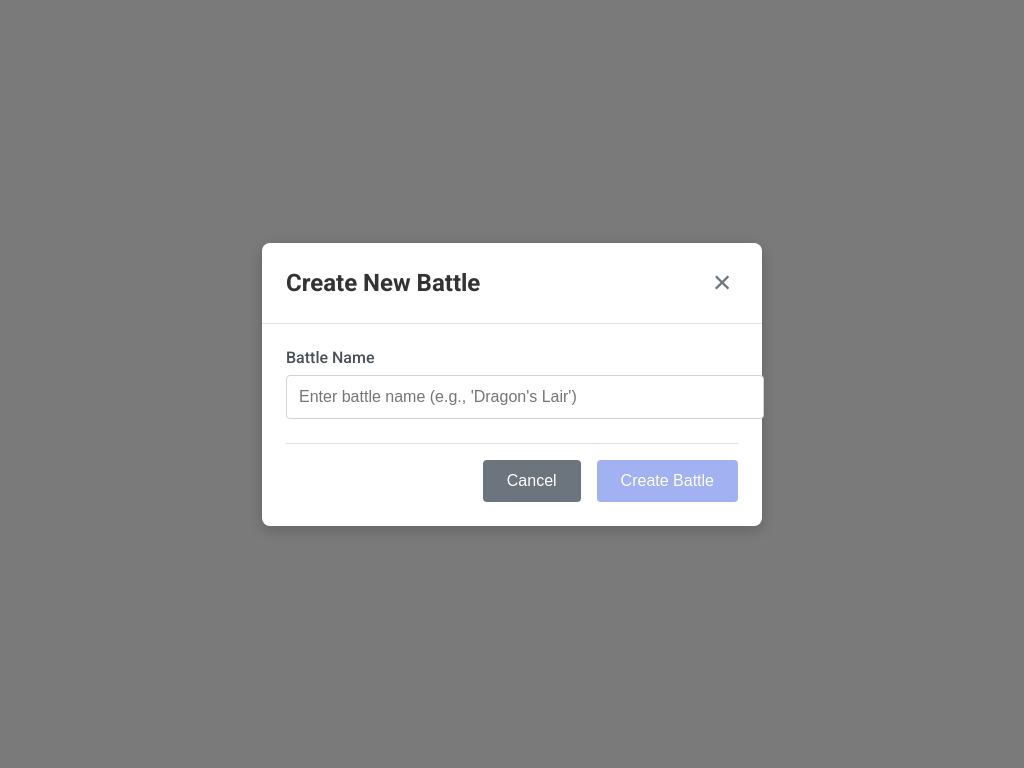
Scenario: CreateBattleDialogComponent › should show validation error when name is empty and form is touched
Focus and blur without entering text
Click the field labelled "Battle Name": (525, 396) [286,374,764,418]
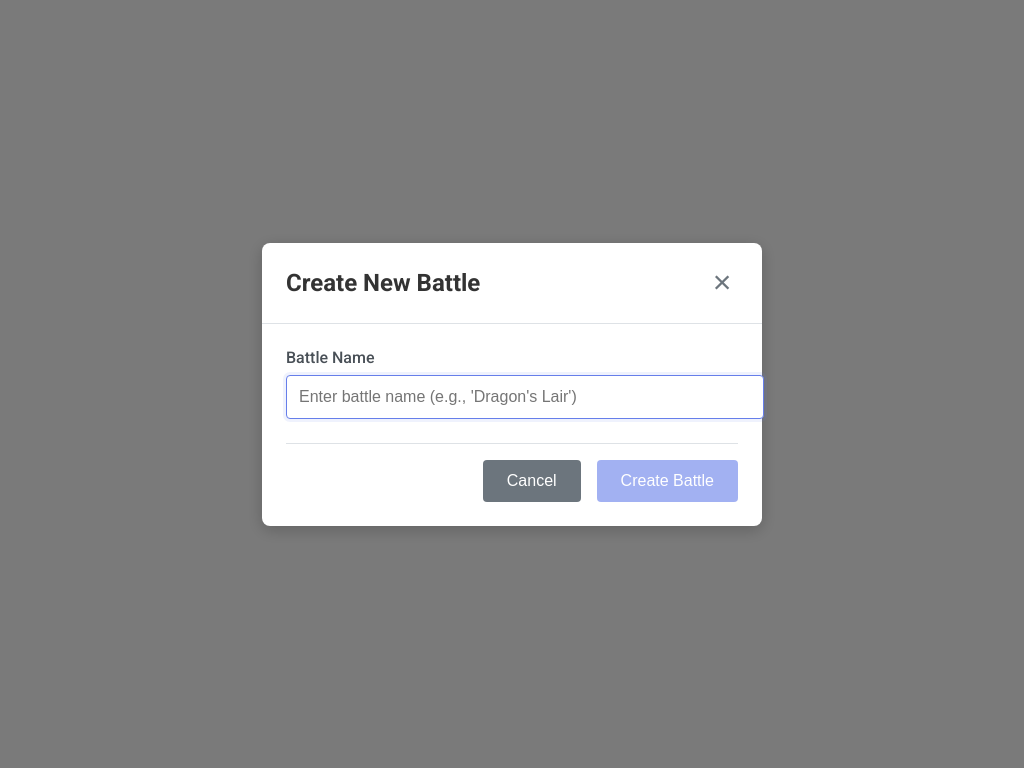
Press Tab
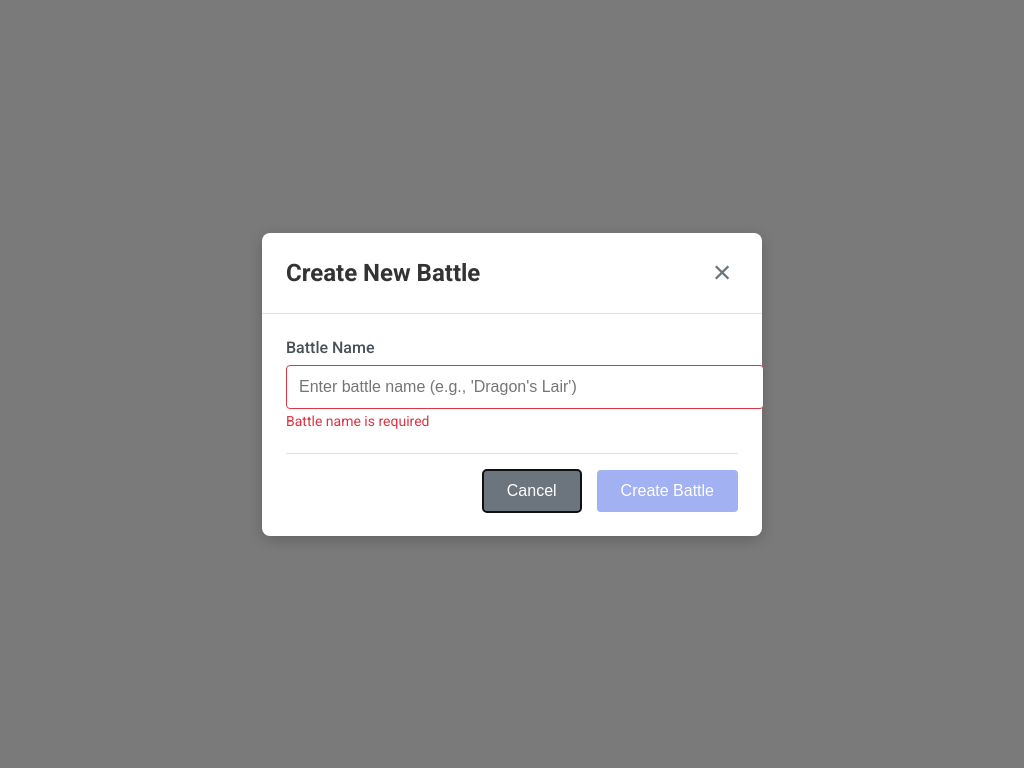
Check: the text "Battle name is required" is shown, box [286,412,430,428]
